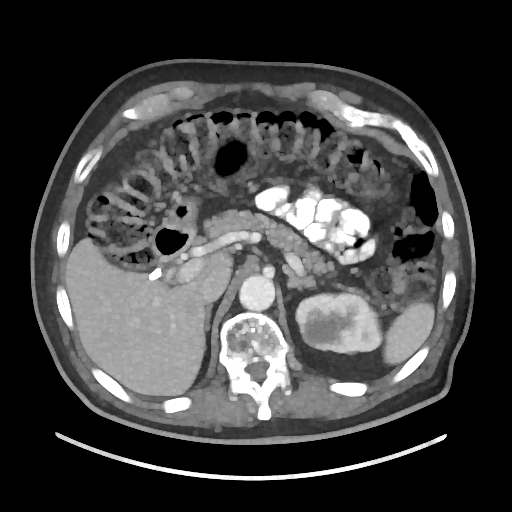Lesion: (301, 310, 342, 349)
